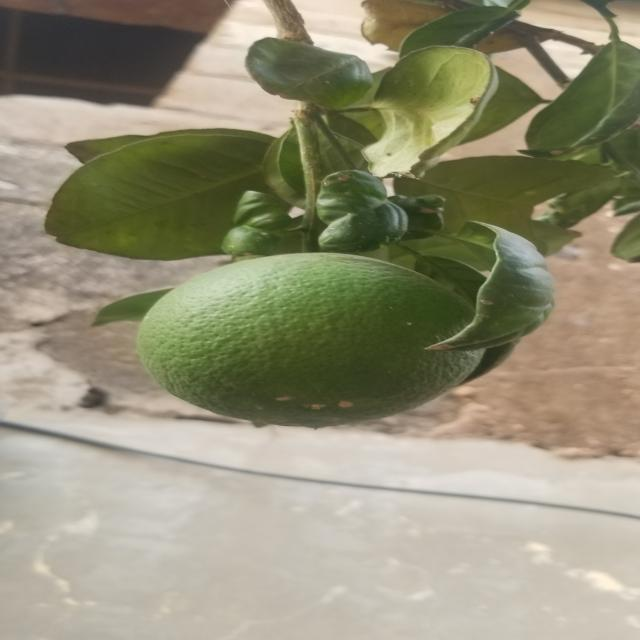Unripe: (150, 256, 497, 438)
